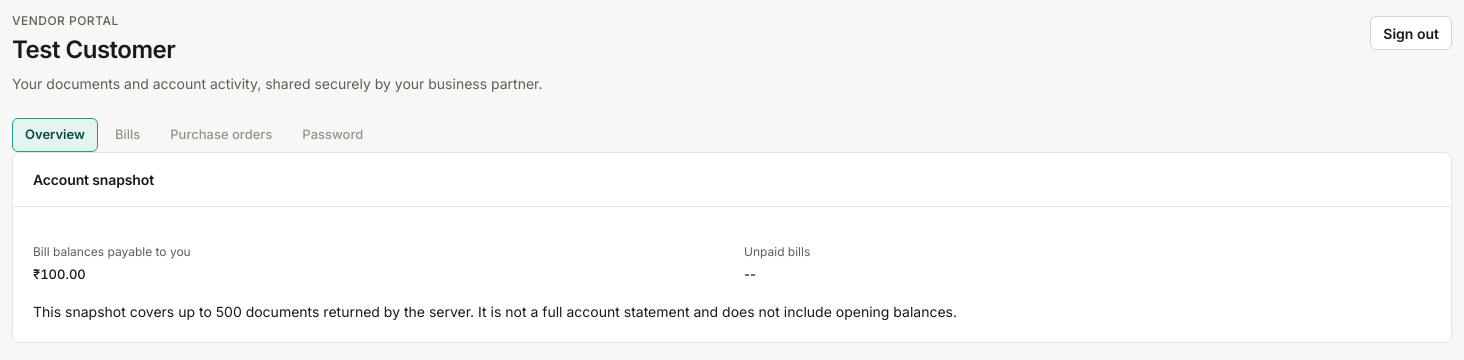
it: does not offer customer reorder and renders vendor purchase orders list
Expected: the text "₹100.00" is shown, [33,266,86,282]
Click the tab "Purchase orders": {"x": 221, "y": 135} [157,118,285,152]
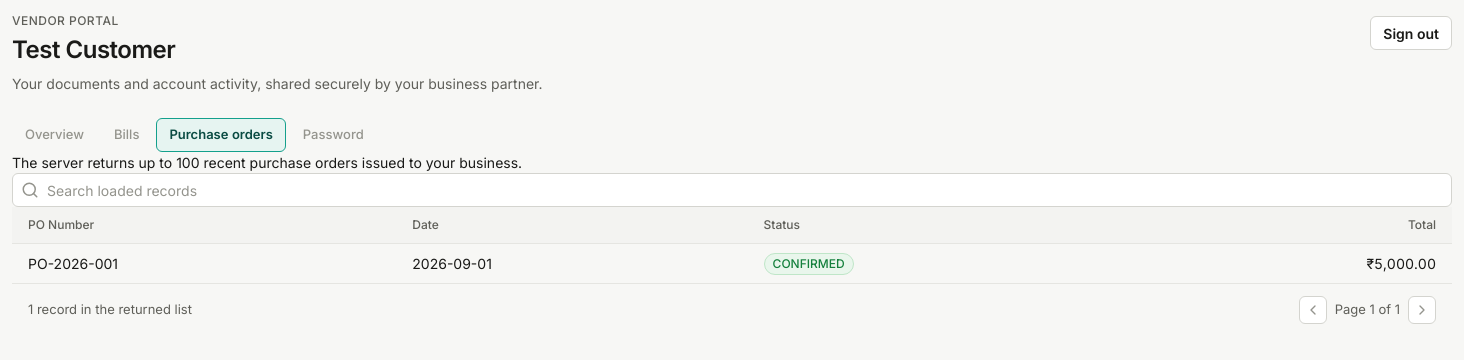
Expected: the text "PO-2026-001" is shown, [12,244,396,283]
